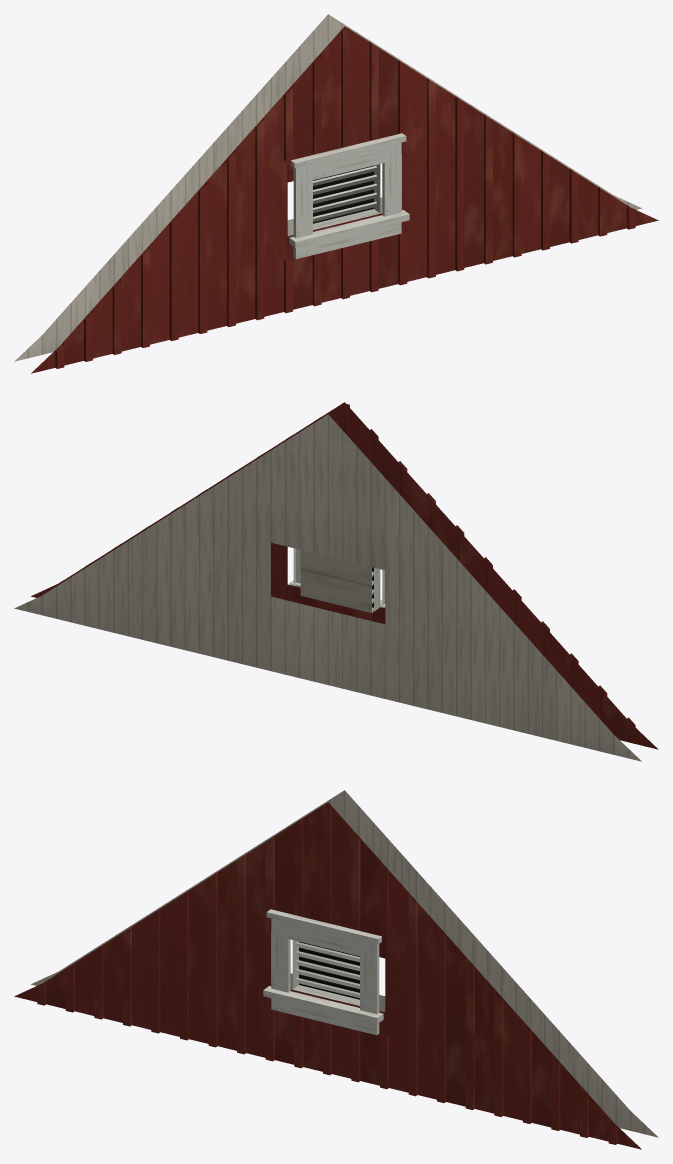
The model's file is red-wooden-house-gable-wall.glb.
The picture shows the model from 3 angles, top to bottom: view 1: azimuth 30°, elevation 25°; view 2: azimuth 150°, elevation 25°; view 3: azimuth 330°, elevation 25°; orthographic projection.
Parts seen in each view (by area): view 1: roof_gable_end; view 2: roof_gable_end; view 3: roof_gable_end.
Boxes of the visible parts, x1,y1,x2,y2 form: roof_gable_end: [14, 14, 658, 373]; roof_gable_end: [14, 402, 658, 761]; roof_gable_end: [14, 790, 658, 1149].
Bounding box in the file's own units: 4.4 × 1.81 × 0.2949.
Materials: 1 (1 with a texture image).
